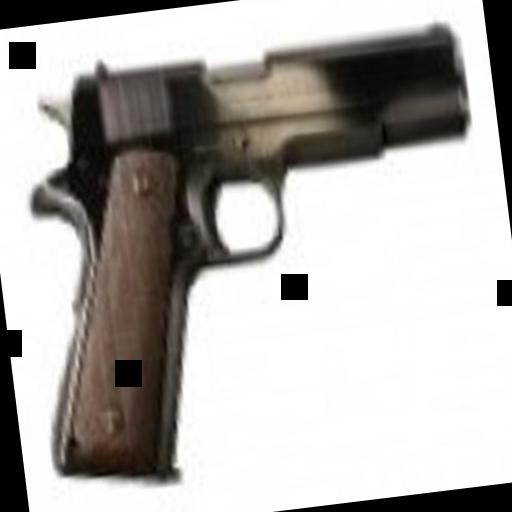Handgun: (0, 2, 509, 491)
